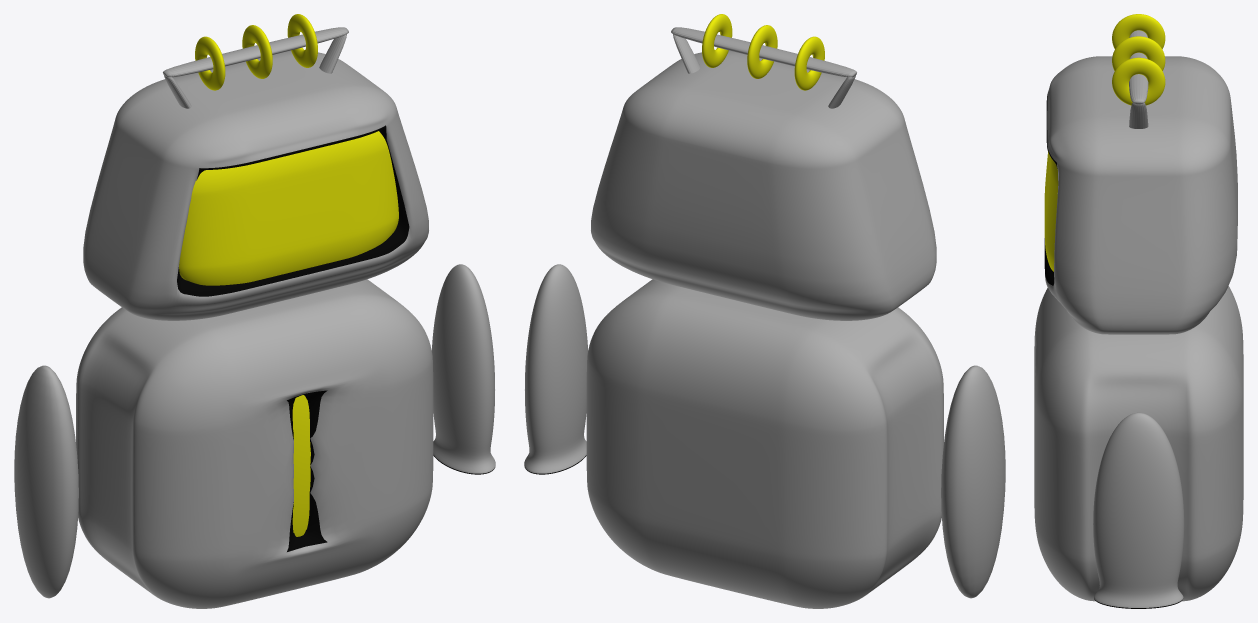
Rendered from SM_APE.fbx.
3 renders of one model, left to right at view 1: azimuth 30°, elevation 25°; view 2: azimuth 150°, elevation 25°; view 3: azimuth 270°, elevation 25°, orthographic. The views are drawn at different scales.
Parts seen in each view (by area): view 1: SM_Body, SM_RightArm, SM_Cannon; view 2: SM_Body, SM_RightArm, SM_Cannon; view 3: SM_Body, SM_Cannon.
Part boxes in pixels (x1,y1,x2,y2): SM_Body: [76, 14, 433, 608]; SM_RightArm: [14, 365, 78, 598]; SM_Cannon: [431, 264, 495, 474]; SM_Body: [586, 14, 943, 608]; SM_RightArm: [941, 365, 1005, 598]; SM_Cannon: [524, 264, 588, 474]; SM_Body: [1034, 14, 1243, 601]; SM_Cannon: [1093, 412, 1184, 608].
Bounding box in the file's own units: 5.09 × 5.71 × 2.07.
